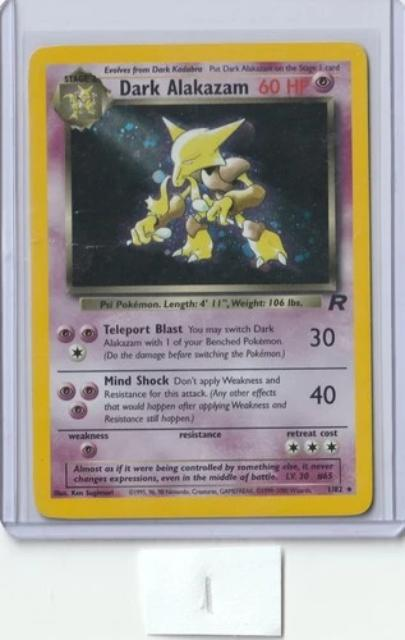Card: (25, 39, 379, 523)
Name: (112, 77, 257, 103)
